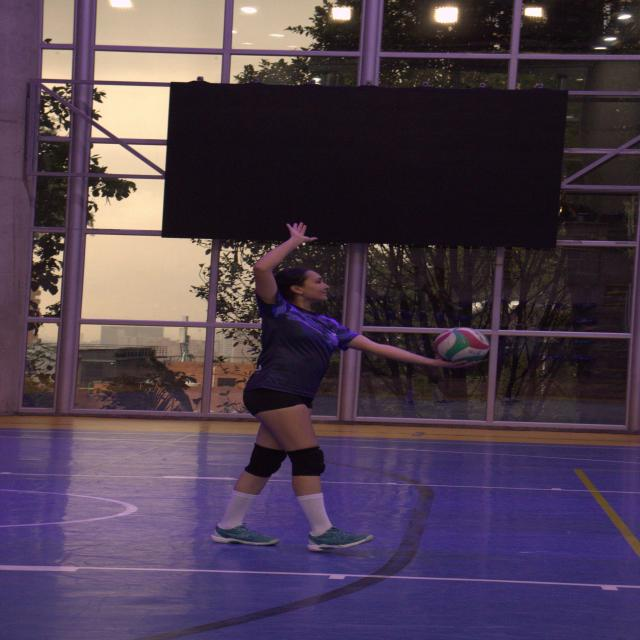volleyball: (434, 328, 489, 362)
